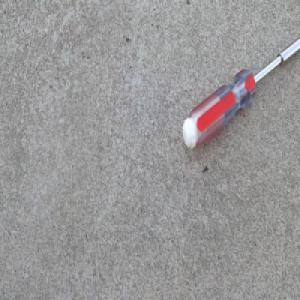Screwdriver: (180, 36, 300, 152)
